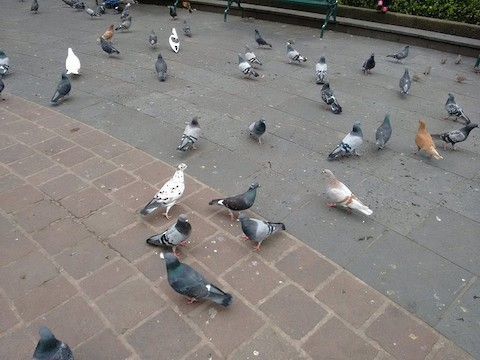pigeon: (157, 250, 236, 311), (136, 160, 194, 222), (319, 168, 375, 221), (145, 212, 198, 260), (206, 178, 262, 222), (229, 213, 290, 251), (25, 324, 78, 360), (409, 115, 445, 167), (429, 119, 478, 156), (172, 113, 208, 153), (314, 78, 346, 116), (369, 113, 397, 154), (441, 90, 473, 124), (243, 115, 270, 150), (49, 72, 76, 107), (234, 50, 262, 83), (61, 45, 85, 79), (149, 49, 172, 83), (283, 40, 308, 66), (396, 66, 415, 100), (94, 34, 120, 56), (384, 43, 412, 63), (165, 24, 183, 53), (357, 51, 378, 74), (80, 3, 103, 24), (250, 27, 272, 48), (114, 13, 136, 33), (143, 25, 161, 49), (179, 17, 196, 39), (1, 48, 13, 77)
